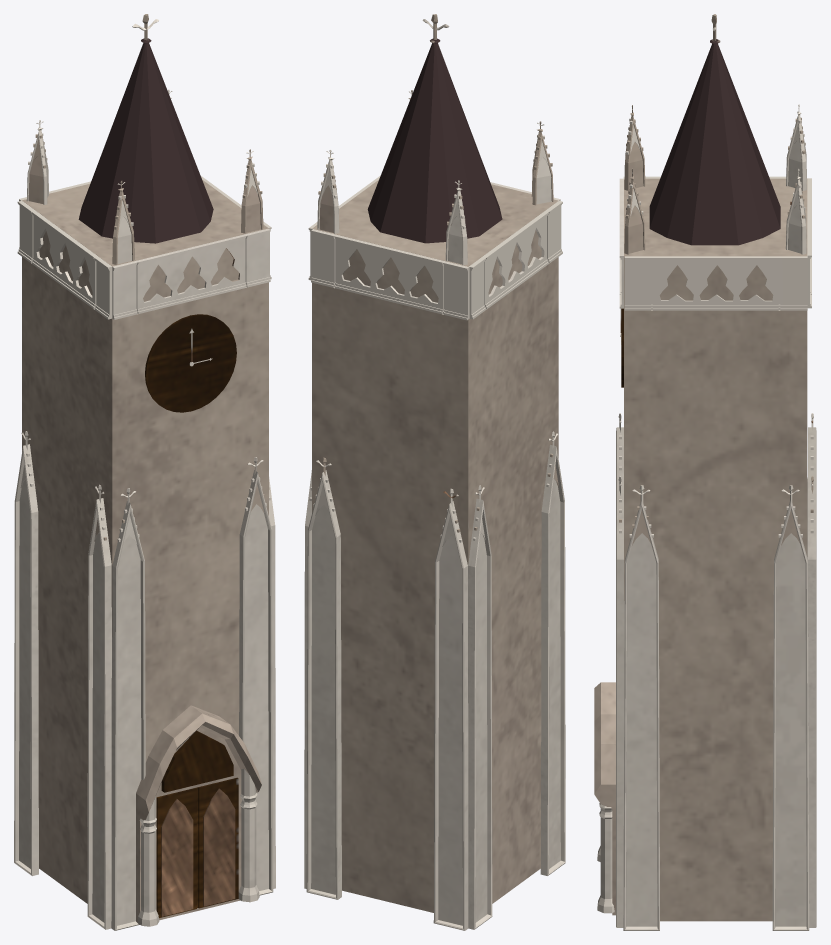
The model's file is ClockTower.fbx.
3 views of the same model, side by side, from view 1: azimuth 30°, elevation 25°; view 2: azimuth 150°, elevation 25°; view 3: azimuth 270°, elevation 25° (orthographic).
Visible parts, largest first — view 1: ClockTower; view 2: ClockTower; view 3: ClockTower.
Boxes of the visible parts, x1,y1,x2,y2 form: ClockTower: (14, 14, 275, 930); ClockTower: (304, 14, 565, 930); ClockTower: (594, 14, 816, 930).
Size of the model in its own units: 1094 by 5256 by 1212.
Materials: 1 (1 with a texture image).
